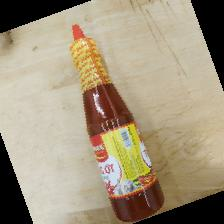Xylitol_green: (69, 22, 166, 224)
